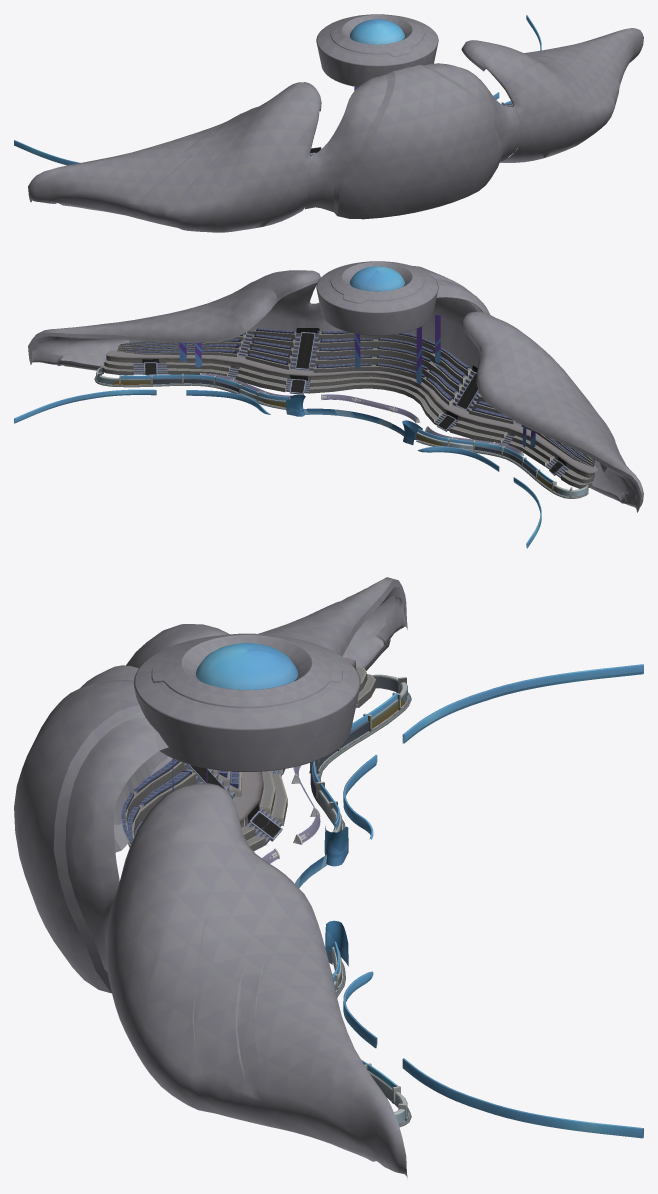
Rendered from pref_sm_4v4pointbake_CSD_S_lv1.fbx.
3 views of the same model, one above another, from view 1: azimuth 30°, elevation 25°; view 2: azimuth 150°, elevation 25°; view 3: azimuth 270°, elevation 25° (orthographic). The views are drawn at different scales.
Visible parts, largest first — view 1: sm_4v4pointbake_CSD_S_f_lv1, sm_4v4pointbake_CSD_S_e_lv1, sm_4v4pointbake_CSD_S_i_lv1; view 2: sm_4v4pointbake_CSD_S_f_lv1, sm_4v4pointbake_CSD_S_h_lv1, sm_4v4pointbake_CSD_S_e_lv1, sm_4v4pointbake_CSD_S_i_lv1, sm_4v4pointbake_CSD_S_c_lv1, sm_4v4pointbake_CSD_S_d_lv1, sm_4v4pointbake_CSD_S_g_lv1, sm_4v4pointbake_CSD_S_a_lv1; view 3: sm_4v4pointbake_CSD_S_f_lv1, sm_4v4pointbake_CSD_S_e_lv1, sm_4v4pointbake_CSD_S_i_lv1, sm_4v4pointbake_CSD_S_h_lv1, sm_4v4pointbake_CSD_S_c_lv1, sm_4v4pointbake_CSD_S_d_lv1.
Boxes of the visible parts, x1,y1,x2,y2 form: sm_4v4pointbake_CSD_S_f_lv1: [28, 28, 643, 232]; sm_4v4pointbake_CSD_S_e_lv1: [316, 14, 438, 87]; sm_4v4pointbake_CSD_S_i_lv1: [14, 15, 541, 165]; sm_4v4pointbake_CSD_S_f_lv1: [28, 266, 643, 512]; sm_4v4pointbake_CSD_S_h_lv1: [102, 328, 597, 488]; sm_4v4pointbake_CSD_S_e_lv1: [316, 261, 438, 335]; sm_4v4pointbake_CSD_S_i_lv1: [14, 374, 553, 548]; sm_4v4pointbake_CSD_S_c_lv1: [94, 367, 588, 498]; sm_4v4pointbake_CSD_S_d_lv1: [286, 394, 422, 444]; sm_4v4pointbake_CSD_S_g_lv1: [179, 314, 535, 447]; sm_4v4pointbake_CSD_S_a_lv1: [200, 373, 524, 456]; sm_4v4pointbake_CSD_S_f_lv1: [14, 577, 407, 1177]; sm_4v4pointbake_CSD_S_e_lv1: [133, 633, 360, 771]; sm_4v4pointbake_CSD_S_i_lv1: [313, 664, 643, 1138]; sm_4v4pointbake_CSD_S_h_lv1: [121, 657, 376, 851]; sm_4v4pointbake_CSD_S_c_lv1: [309, 674, 411, 1127]; sm_4v4pointbake_CSD_S_d_lv1: [295, 826, 348, 966].
Bounding box in the file's own units: 126 × 29.79 × 60.12.
